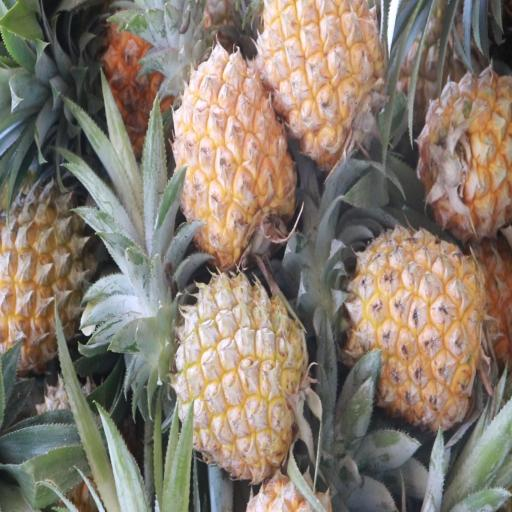------------------------------: (0, 183, 93, 362)
Pineapple - v8 v1: (351, 229, 485, 432), (176, 276, 308, 478), (172, 48, 296, 260), (259, 0, 383, 153), (422, 68, 512, 230)
